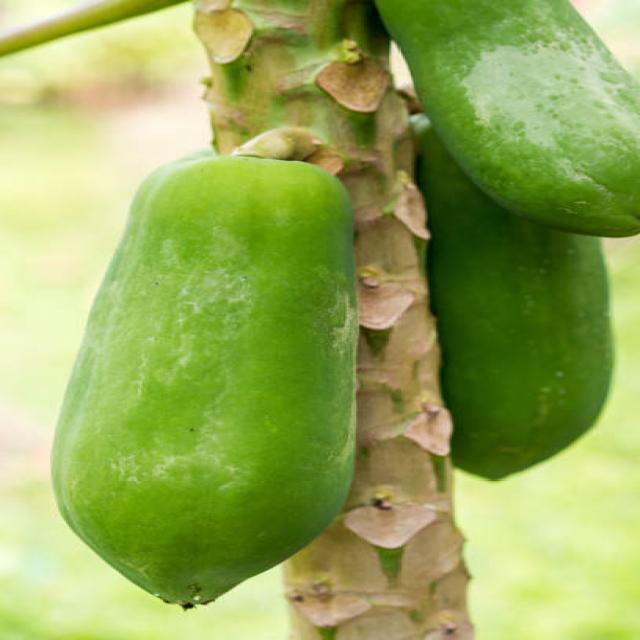Pepaya unrippen: (55, 160, 389, 614), (406, 143, 621, 491), (409, 18, 640, 230)
